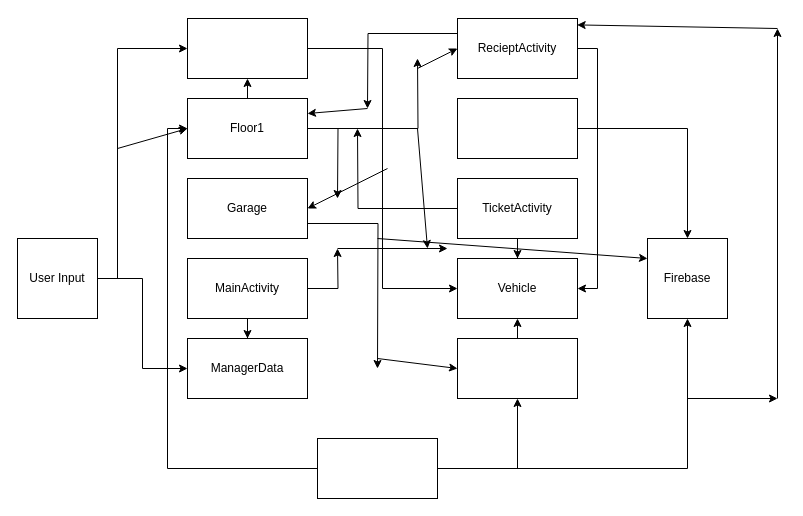
The diagram is 803 pixels wide and 516 high, and some of its shapes have lost their labels. Each missing label, with the box of its shape:
AttendantActivity: (186, 18, 308, 78)
GarageActivity: (456, 98, 578, 158)
RetrieveActivity: (316, 438, 438, 498)
VehicleSpace: (456, 338, 578, 398)
